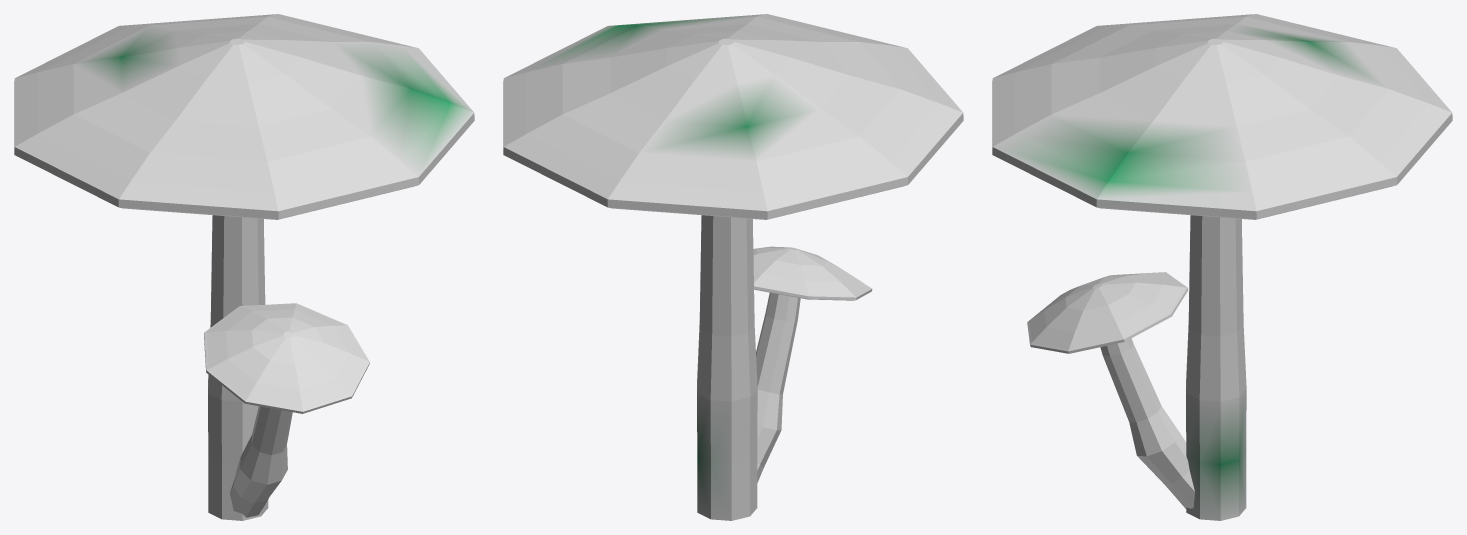
Rendered from destroying_angel2.fbx.
3 views of the same model, side by side, from view 1: azimuth 30°, elevation 25°; view 2: azimuth 150°, elevation 25°; view 3: azimuth 270°, elevation 25° (orthographic).
Parts seen in each view (by area): view 1: Cylinder.001, Cylinder.002; view 2: Cylinder.001, Cylinder.002; view 3: Cylinder.001, Cylinder.002.
Boxes of the visible parts, x1,y1,x2,y2 form: Cylinder.001: (14, 14, 474, 520); Cylinder.002: (204, 303, 369, 517); Cylinder.001: (503, 14, 963, 520); Cylinder.002: (753, 246, 872, 482); Cylinder.001: (992, 14, 1452, 520); Cylinder.002: (1027, 272, 1194, 508).
Size of the model in its own units: 1515 by 1666 by 1492.
